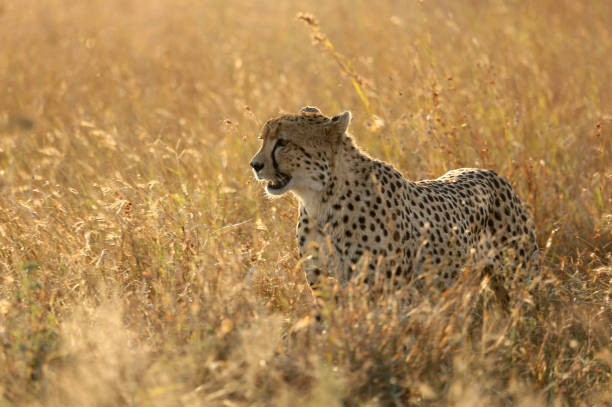cheetah: (244, 98, 360, 205)
